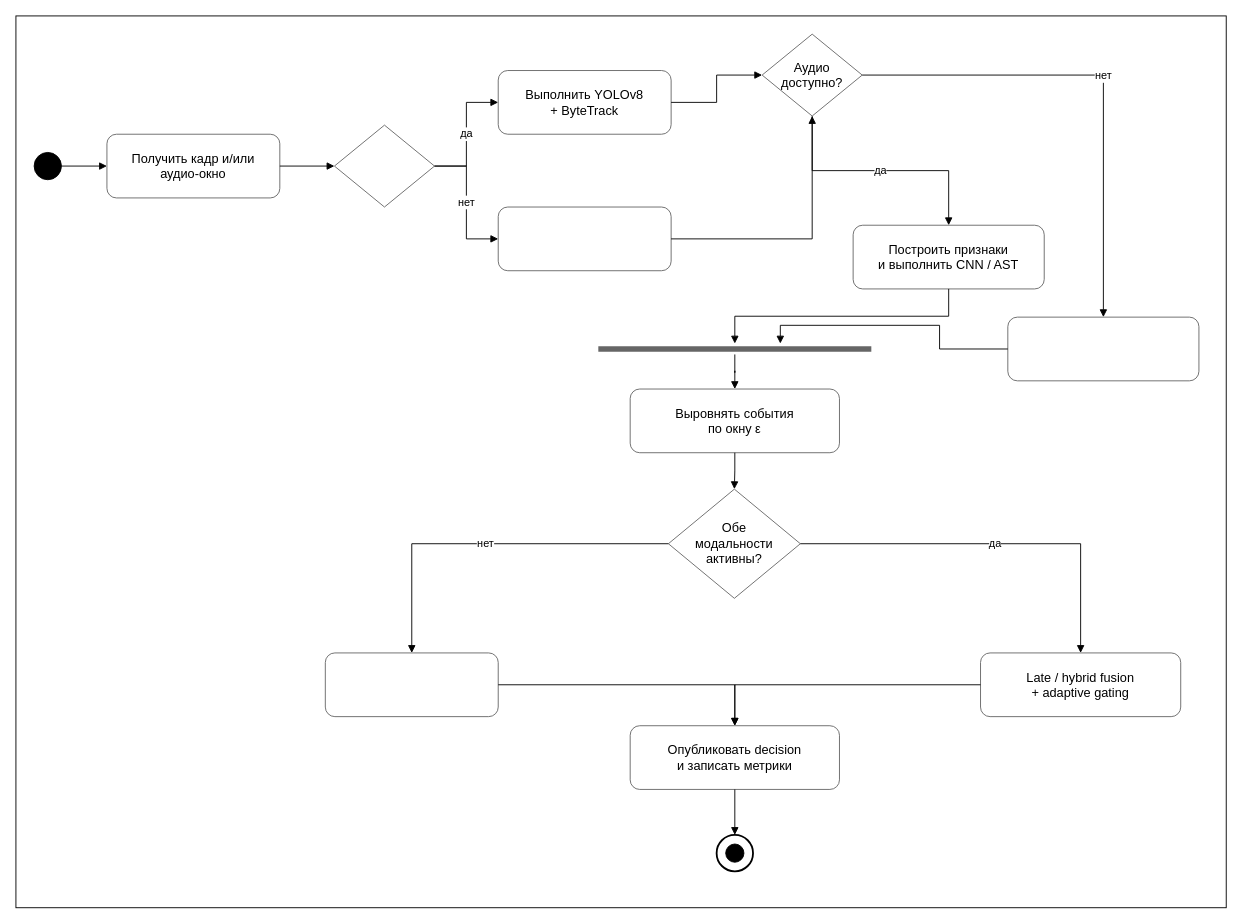
The diagram is 1242 pixels wide and 924 high, and some of its shapes have lost their labels. The centre of each missing label's shape, as x and y in pixels:
"Видео доступно?" belongs at point (384, 165).
"Отметить audio как отсутствующее" belongs at point (1103, 348).
"Отметить video как отсутствующее" belongs at point (584, 238).
"Унимодальное решение" belongs at point (411, 684).
